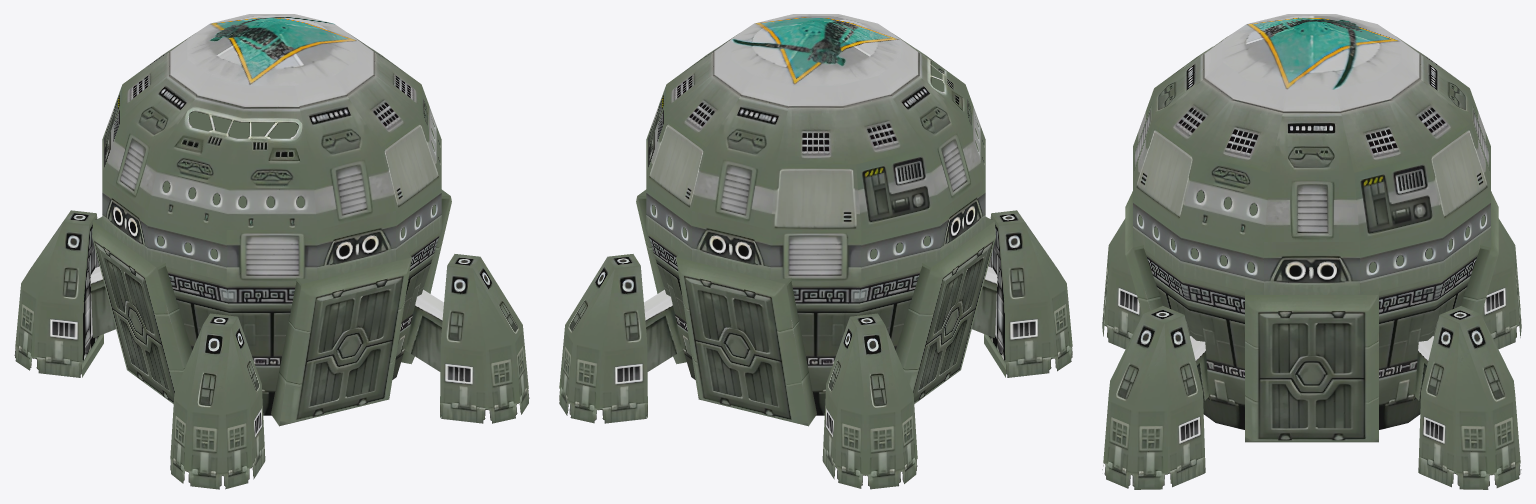
Rendered from dropshipliao_hdtex.glb.
3 renders of one model, left to right at view 1: azimuth 30°, elevation 25°; view 2: azimuth 150°, elevation 25°; view 3: azimuth 270°, elevation 25°, orthographic. The views are drawn at different scales.
Visible parts, largest first — view 1: Dropship, LitWin_Dropship; view 2: Dropship, LitWin_Dropship; view 3: Dropship, LitWin_Dropship.
Boxes of the visible parts, <box> form: Dropship: <box>14,14,529,489</box>; LitWin_Dropship: <box>157,111,435,259</box>; Dropship: <box>559,14,1072,489</box>; LitWin_Dropship: <box>652,66,978,259</box>; Dropship: <box>1102,14,1521,489</box>; LitWin_Dropship: <box>1138,190,1485,272</box>.
Bounding box in the file's own units: 34.84 × 34.67 × 34.84.
1 material, 1 textured.
